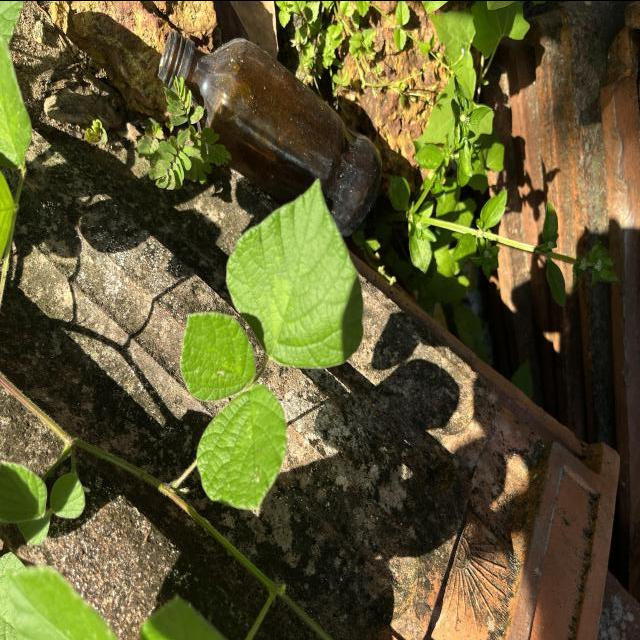Pseudarthria viscida: (176, 170, 366, 518)
